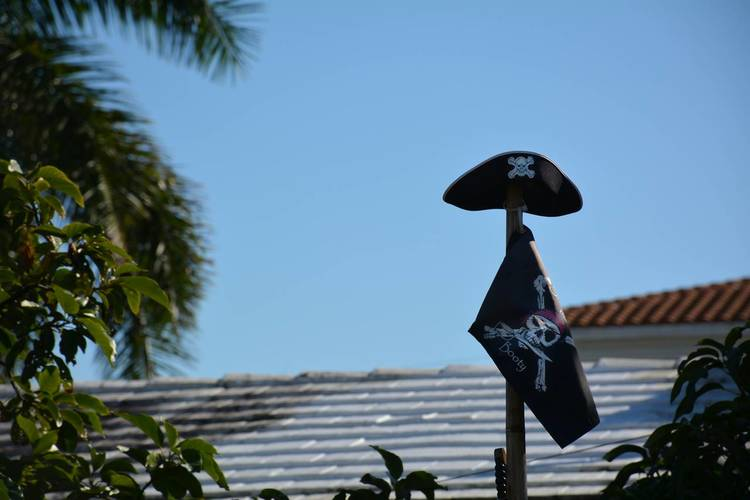Jolly Roger Flag: (471, 229, 610, 448)
